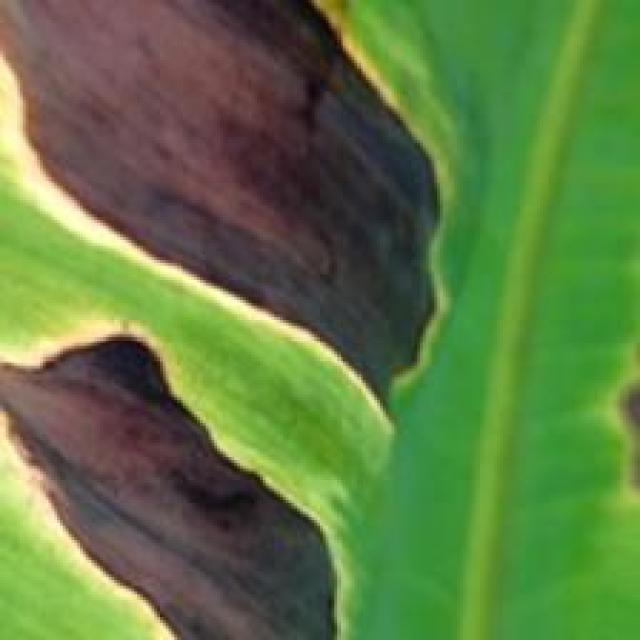Bacterial_spot: (0, 0, 451, 457), (0, 313, 355, 640), (594, 346, 640, 517)
